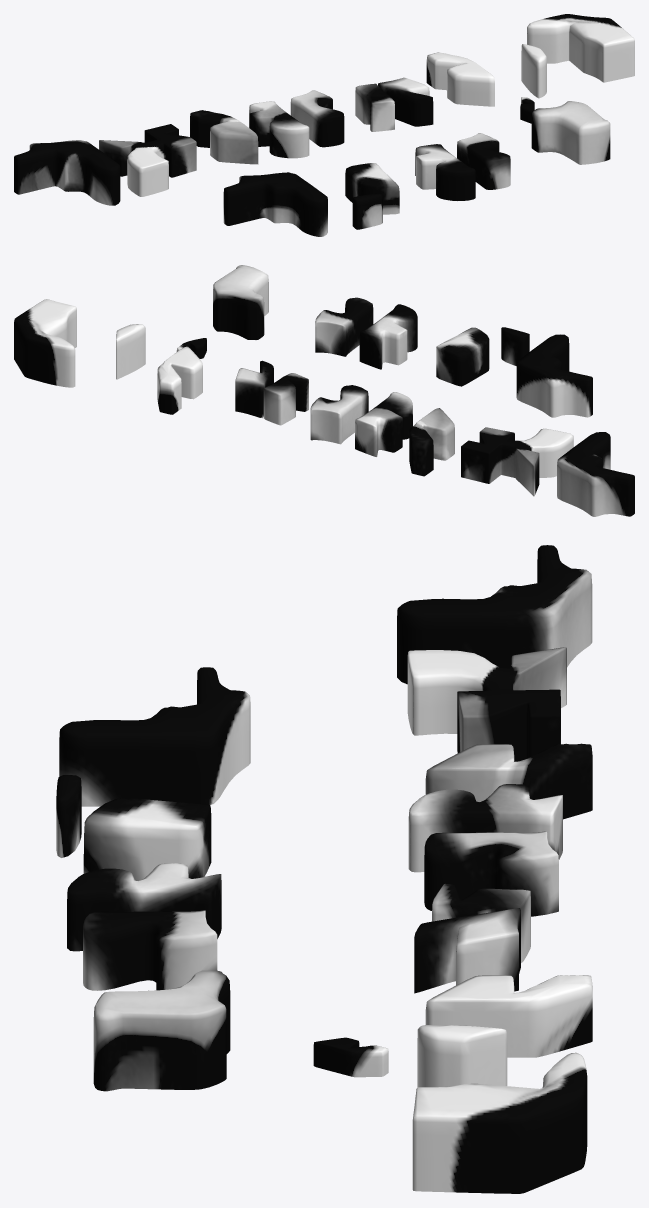
The model's file is codeDivoire_jaune.gltf.
3 renders of one model, top to bottom at view 1: azimuth 30°, elevation 25°; view 2: azimuth 150°, elevation 25°; view 3: azimuth 270°, elevation 25°, orthographic. The views are drawn at different scales.
Visible parts, largest first — view 1: jaune.001; view 2: jaune.001; view 3: jaune.001.
Boxes of the visible parts, bbox=[...] form: jaune.001: bbox=[14, 14, 634, 236]; jaune.001: bbox=[14, 265, 634, 516]; jaune.001: bbox=[56, 545, 592, 1193].
Bounding box in the file's own units: 18.58 × 1.14 × 7.33.
Materials: 1 (1 with a texture image).
